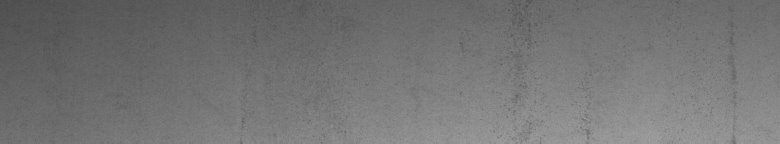ib: (511, 18, 593, 136)
